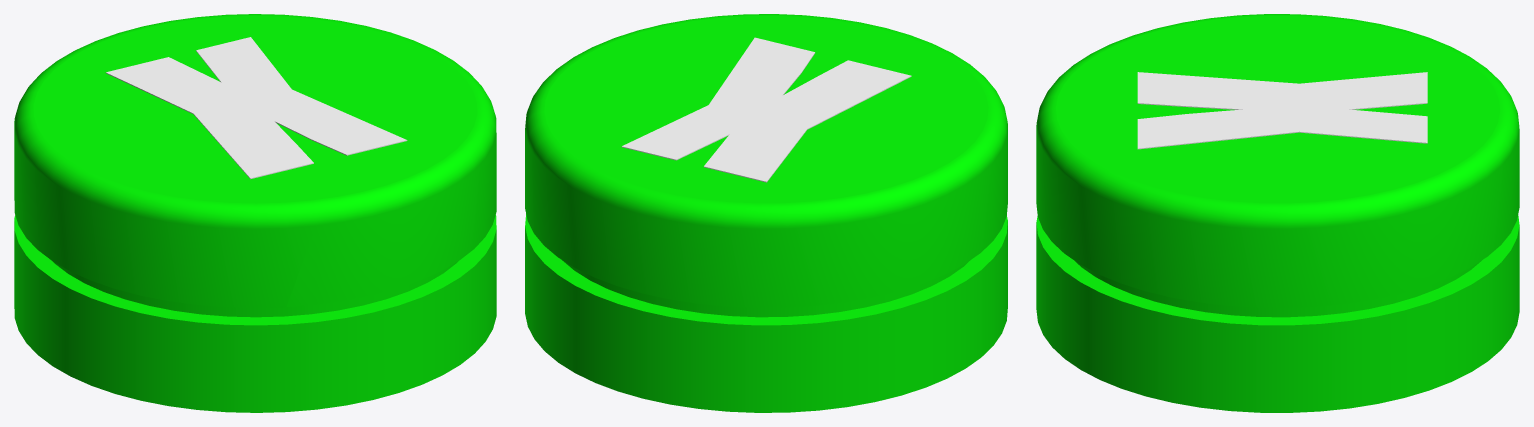
The model's file is nubot_frame10_green.dae.
The picture shows the model from 3 angles, left to right: view 1: azimuth 30°, elevation 25°; view 2: azimuth 150°, elevation 25°; view 3: azimuth 270°, elevation 25°; orthographic projection.
Visible parts, largest first — view 1: SketchUp (×3), X; view 2: SketchUp (×3), X; view 3: SketchUp (×3), X.
Boxes of the visible parts, x1,y1,x2,y2 form: SketchUp (×3): (14, 14, 496, 412); X: (105, 37, 407, 179); SketchUp (×3): (525, 14, 1007, 412); X: (621, 37, 911, 182); SketchUp (×3): (1036, 14, 1519, 412); X: (1137, 72, 1427, 149).
Size of the model in its own units: 19.66 by 19.68 by 9.09.
